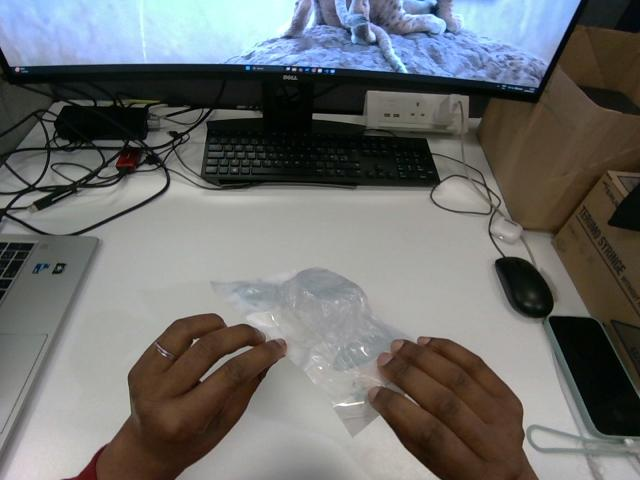gallipot: (212, 268, 404, 435)
